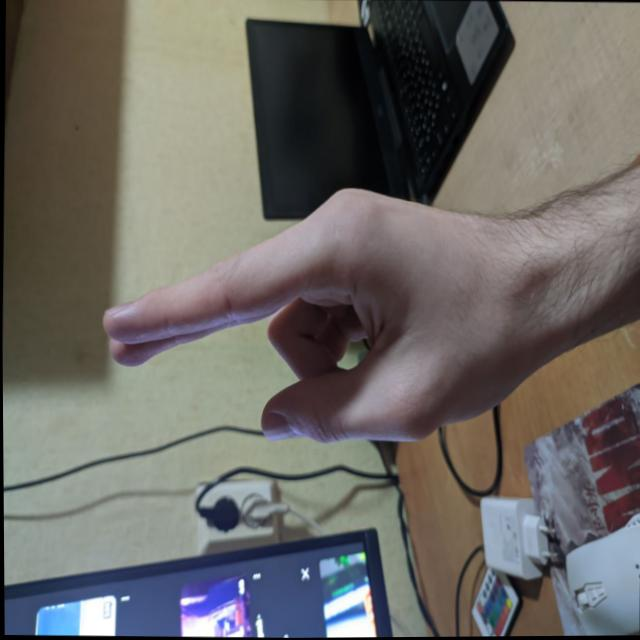d: (78, 165, 470, 482)
